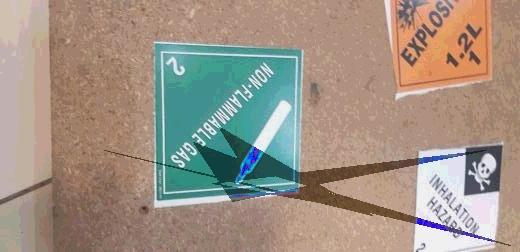explosive: (395, 1, 495, 99)
non-flammable-gas: (152, 42, 306, 209)
poison: (412, 140, 507, 251)
